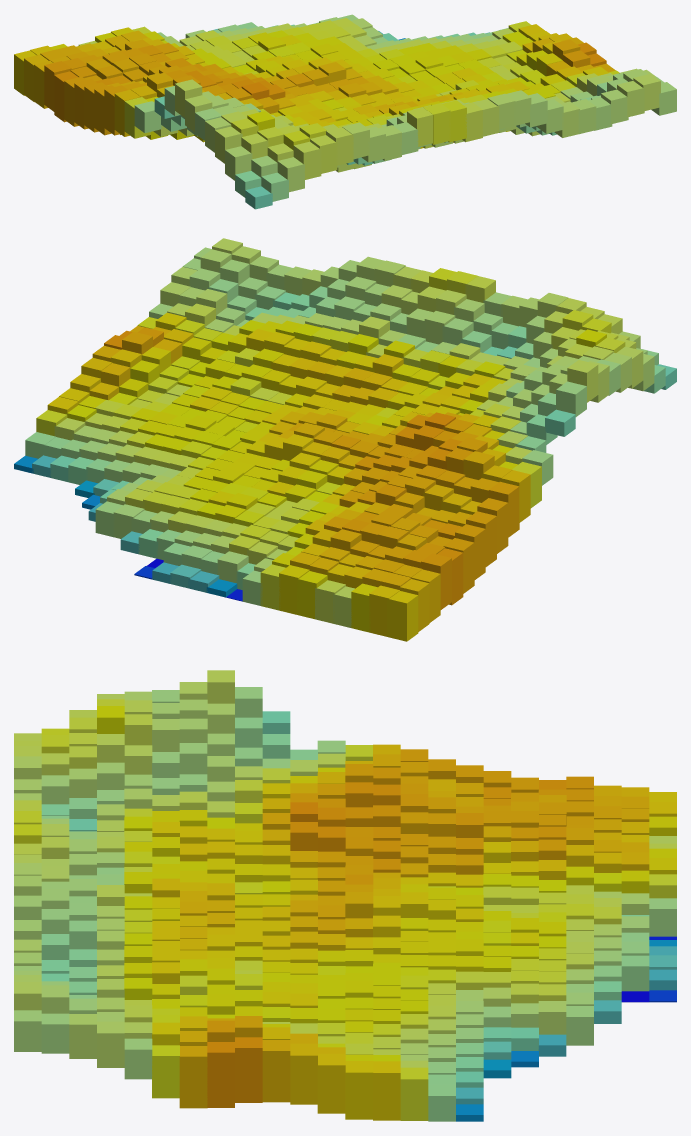
The model's file is population.glb.
The picture shows the model from 3 angles, top to bottom: view 1: azimuth 30°, elevation 25°; view 2: azimuth 150°, elevation 25°; view 3: azimuth 270°, elevation 25°; orthographic projection. The views are drawn at different scales.
Visible parts, largest first — view 1: population; view 2: population; view 3: population.
Boxes of the visible parts, x1,y1,x2,y2 form: population: (14,14,676,209); population: (14,238,676,641); population: (14,670,676,1121).
Size of the model in its own units: 2409 by 669 by 2388.
